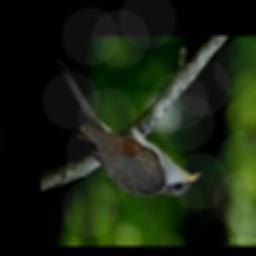Cuckoo: (56, 60, 202, 198)
